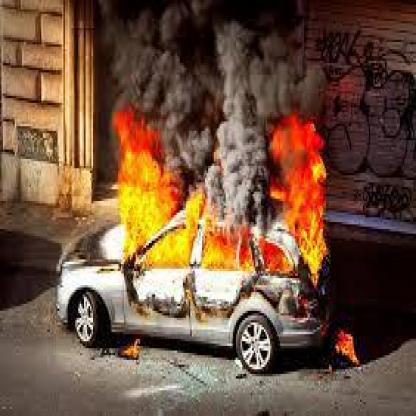fire: (110, 100, 330, 289), (336, 325, 358, 362), (120, 336, 141, 358)
smoke: (105, 3, 324, 154)
